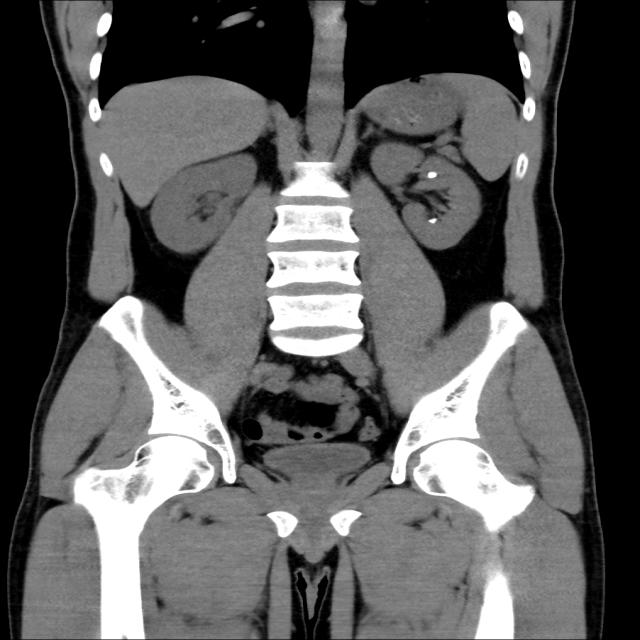kidneystone: (428, 171, 438, 178), (428, 218, 438, 224)
